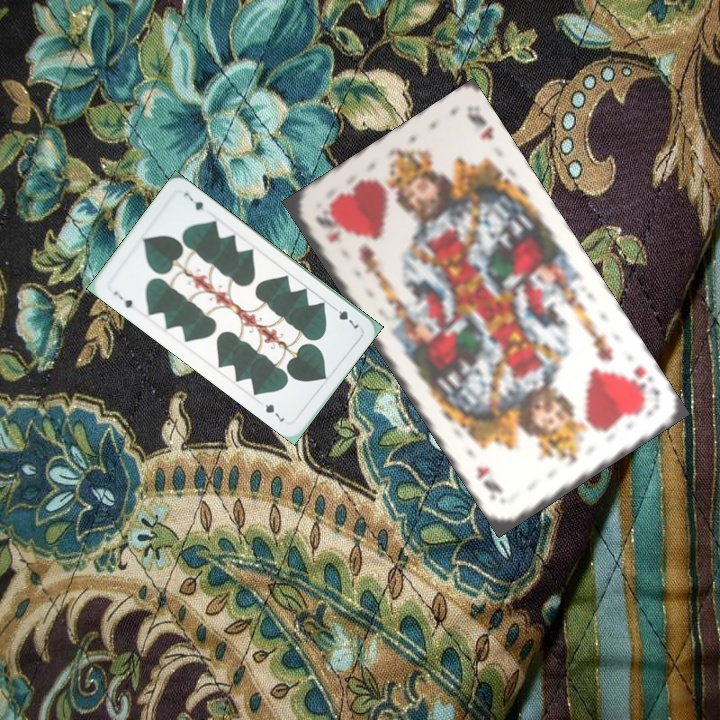G7: (328, 302, 362, 331), (109, 287, 136, 311)
HK: (630, 361, 663, 404), (311, 211, 341, 246)
